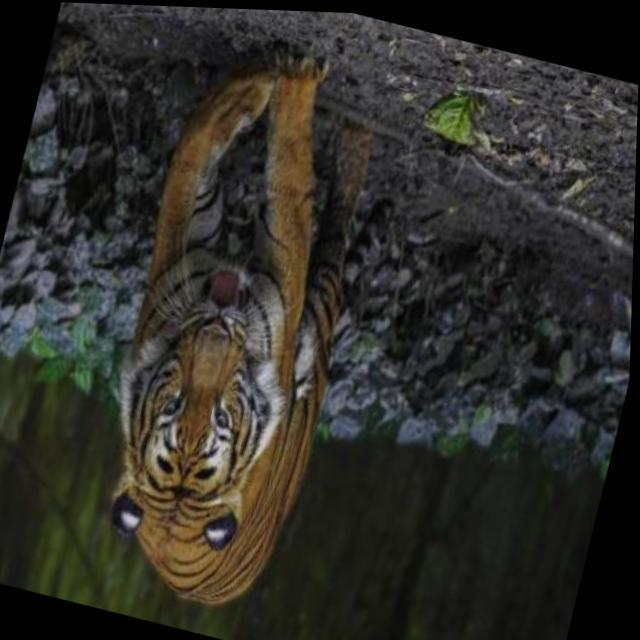tiger: (108, 50, 374, 607)
